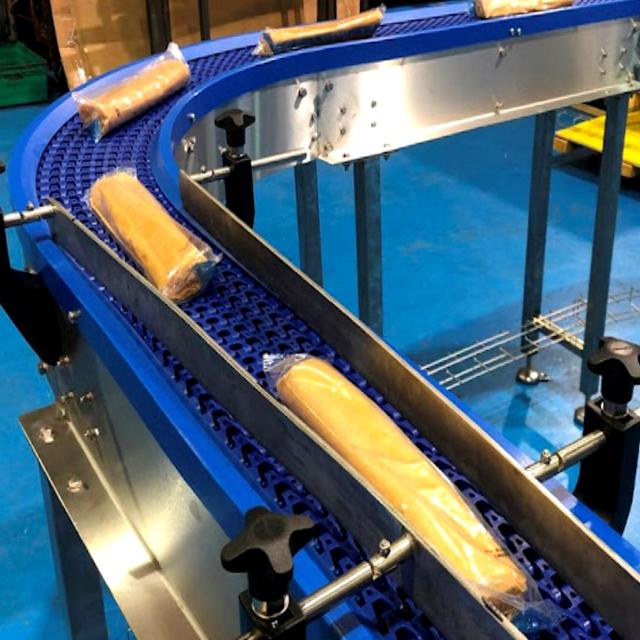food: (260, 348, 546, 630), (86, 168, 222, 303), (69, 40, 191, 144)
